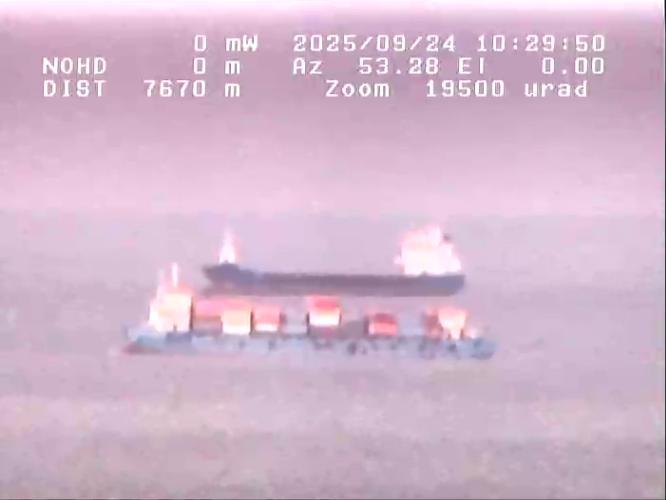CARGO_SHIPS: (101, 263, 491, 395)
TANKER: (190, 210, 505, 292)
